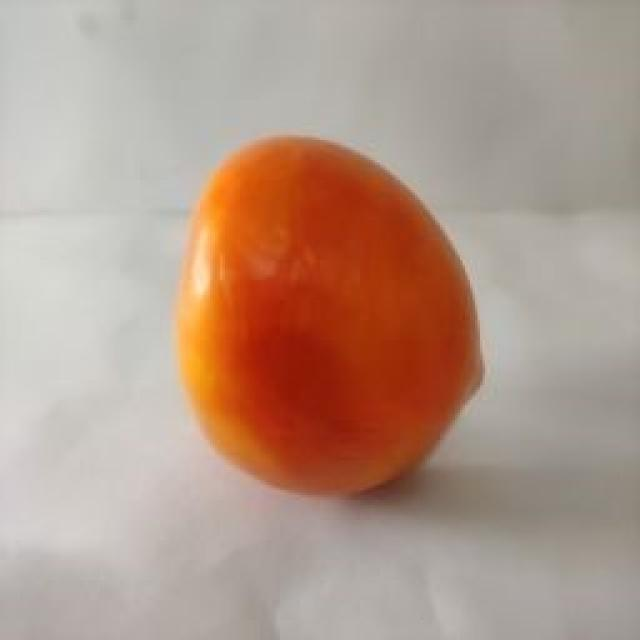Ripe: (171, 132, 493, 502)
